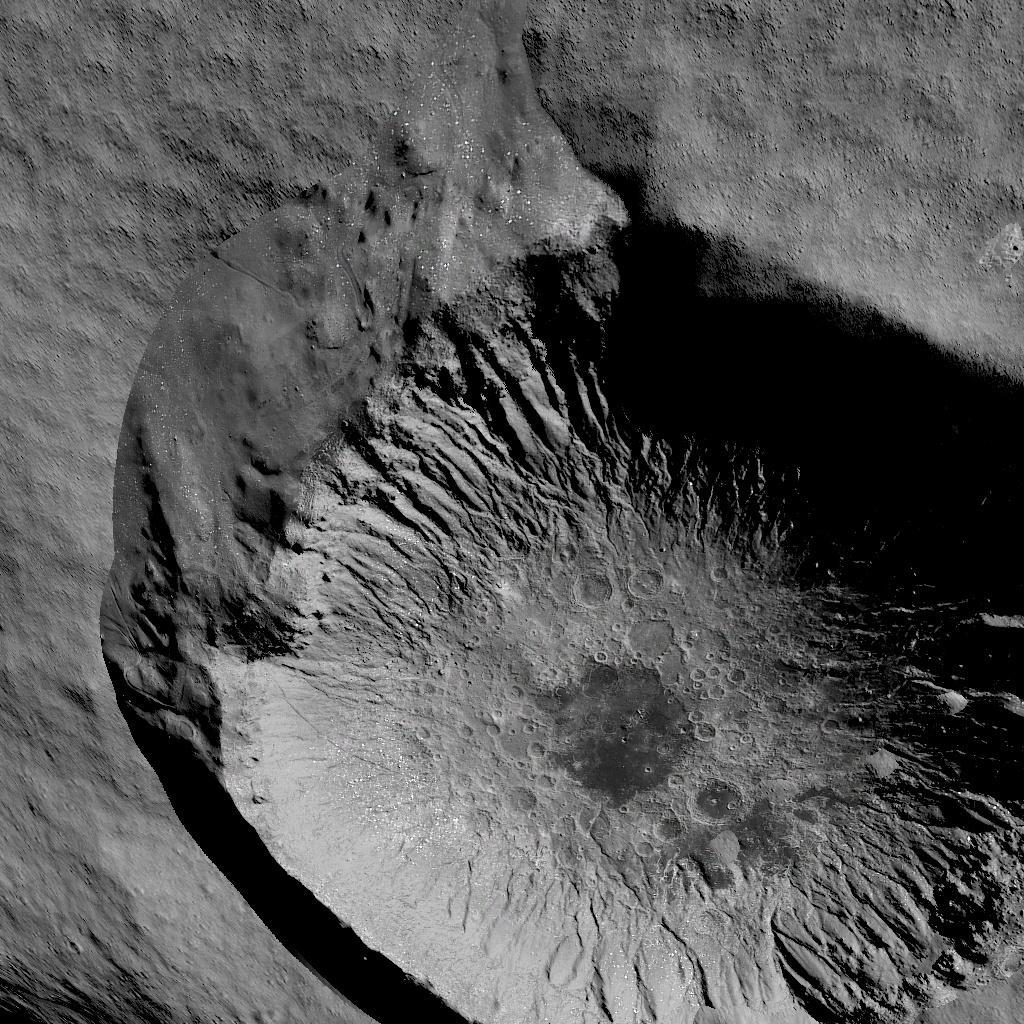Crater: (96, 5, 1024, 1021)
